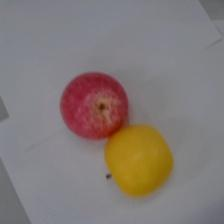red: (59, 71, 130, 141)
yellow: (103, 123, 174, 198)
